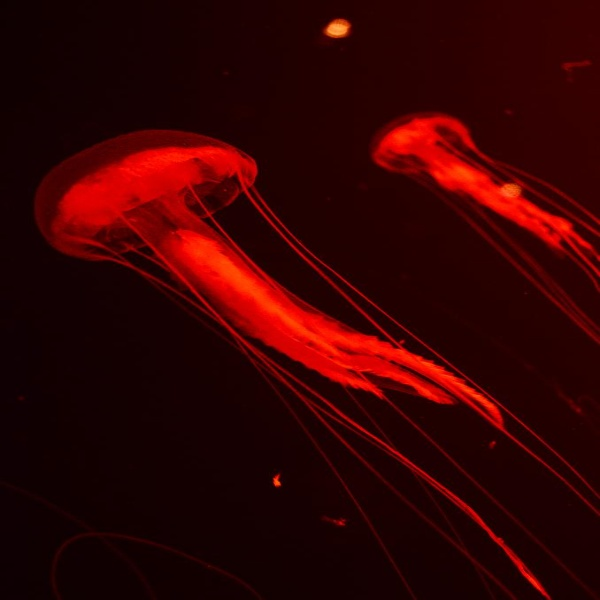Jellyfish: (31, 124, 599, 599), (365, 110, 599, 343)
